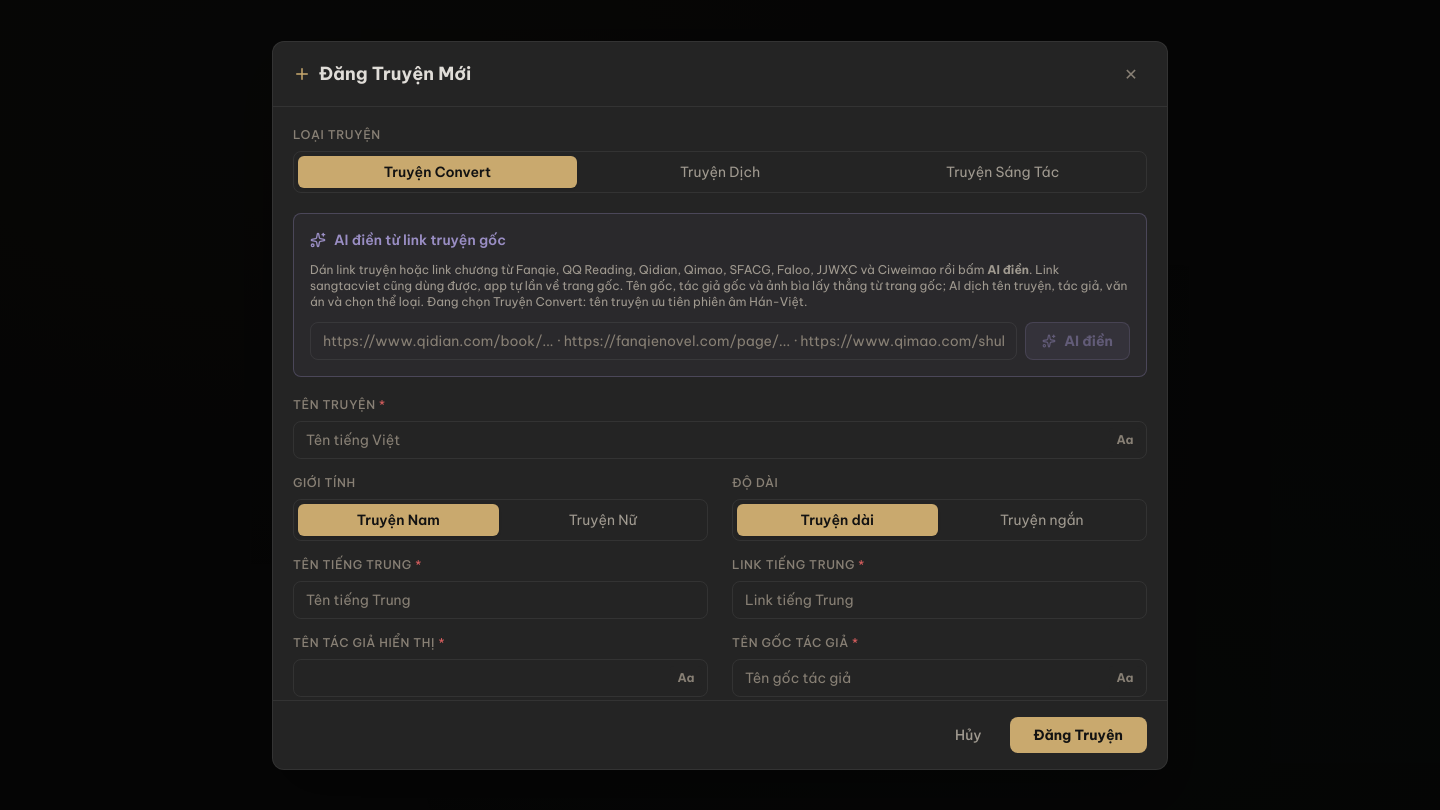
Scenario: CreateBookModal › when the content filter rejects the synopsis, fills the rest from a second request without it
This screenshot has width=1440, height=810.
Replace the text in the field named "Link truyện gốc" with "https://www.qidian.com/book/1010868264/" at (664, 340), box [310, 322, 1017, 360]
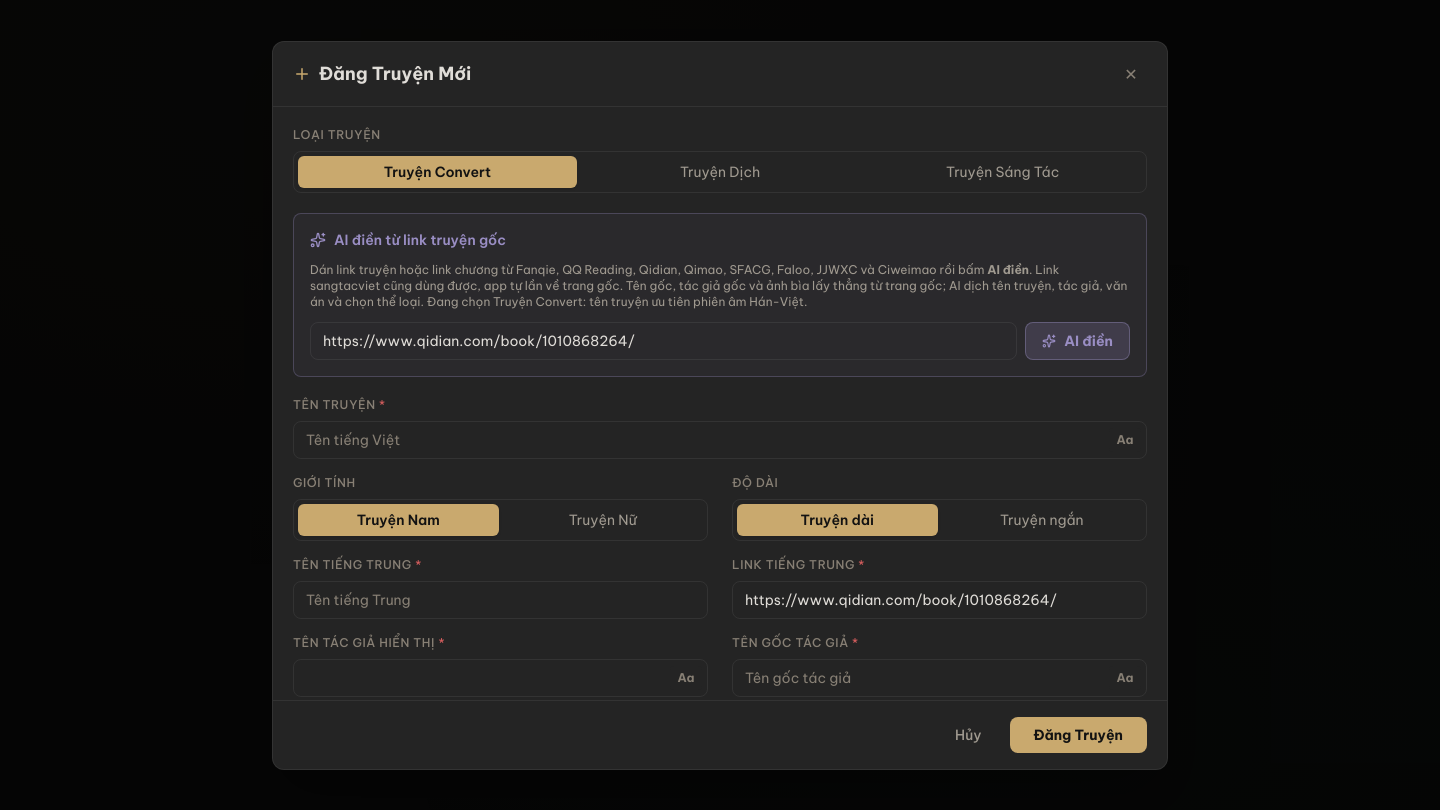
Click the button "AI điền" at (1078, 340), box [1025, 322, 1130, 360]
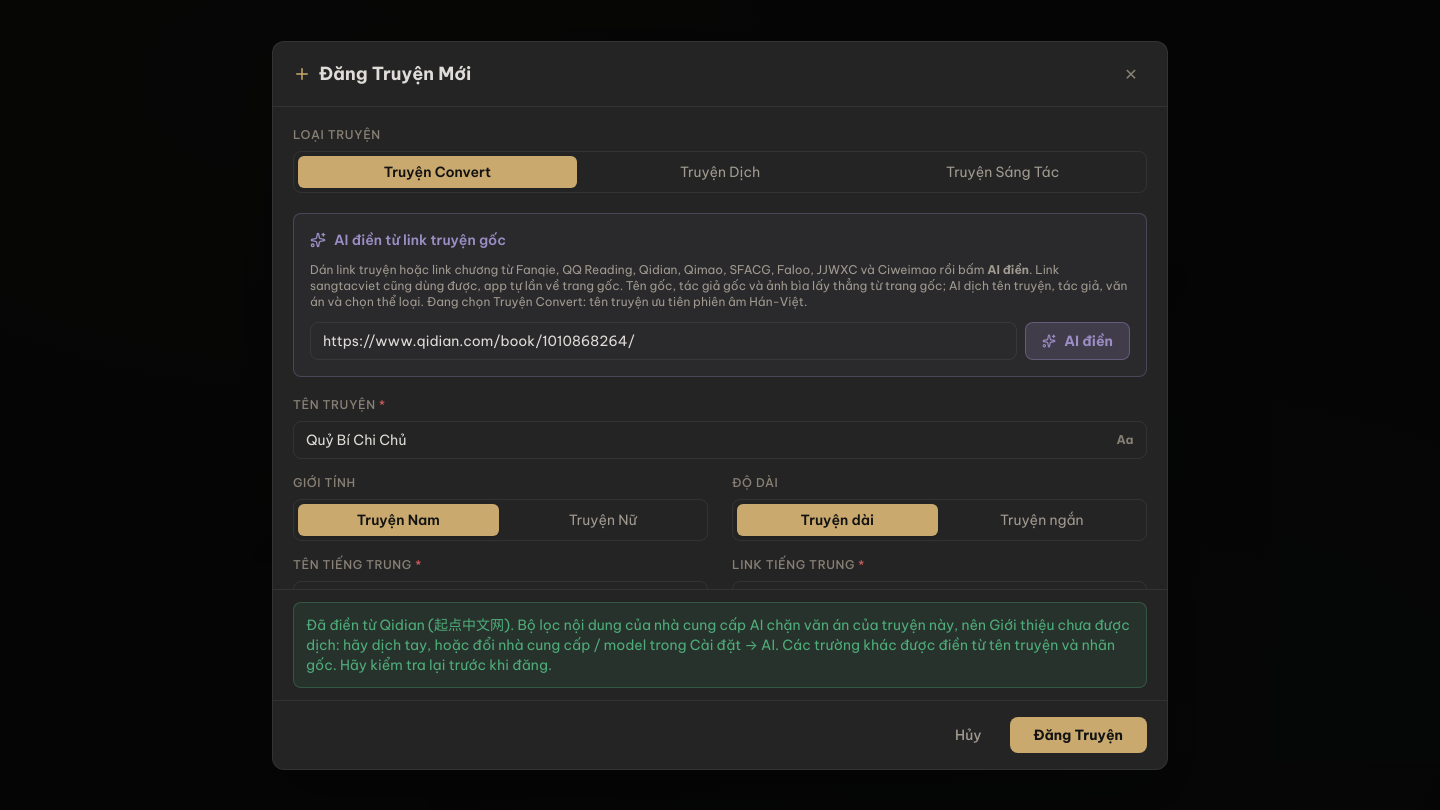
Now the text "Bộ lọc nội dung của nhà cung cấp AI chặn văn án của truyện này" is shown, box [306, 616, 1130, 674]
